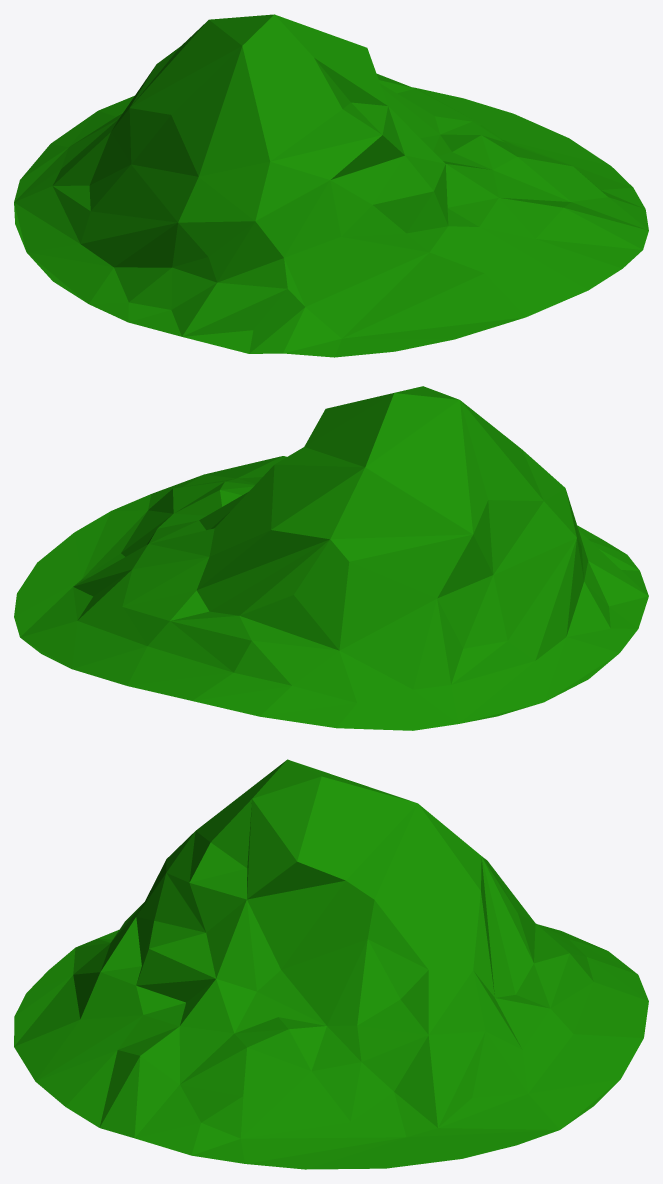
The model's file is hill_3.fbx.
3 views of the same model, one above another, from view 1: azimuth 30°, elevation 25°; view 2: azimuth 150°, elevation 25°; view 3: azimuth 270°, elevation 25° (orthographic).
Parts seen in each view (by area): view 1: Plane.002; view 2: Plane.002; view 3: Plane.002.
Boxes of the visible parts, x1,y1,x2,y2 form: Plane.002: [14, 14, 648, 357]; Plane.002: [14, 386, 648, 730]; Plane.002: [14, 759, 648, 1169].
Size of the model in its own units: 15642 by 6312 by 15748.
